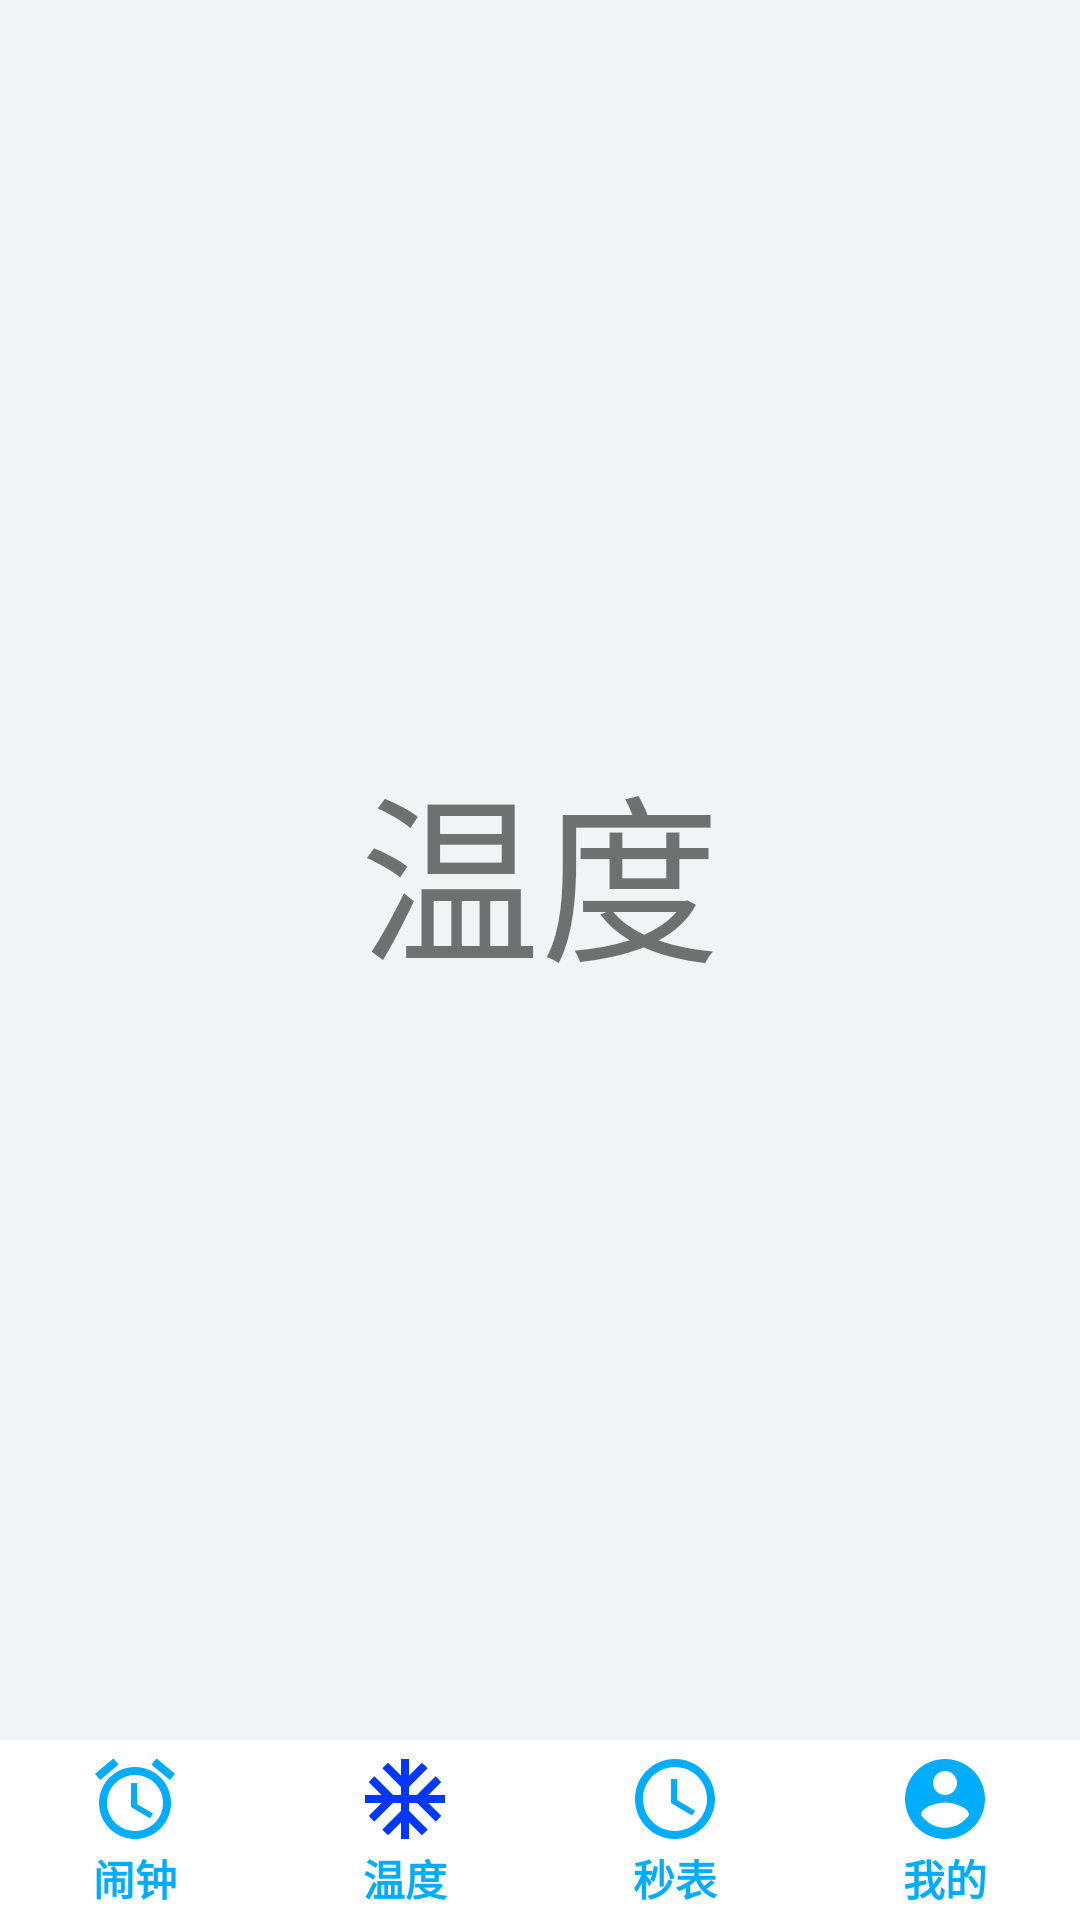

Icon bounding boxes for this 1080×1920 phone screenshot, format box=[x1, y1, x2, y2]:
ac unit: box=[365, 1759, 445, 1839]
